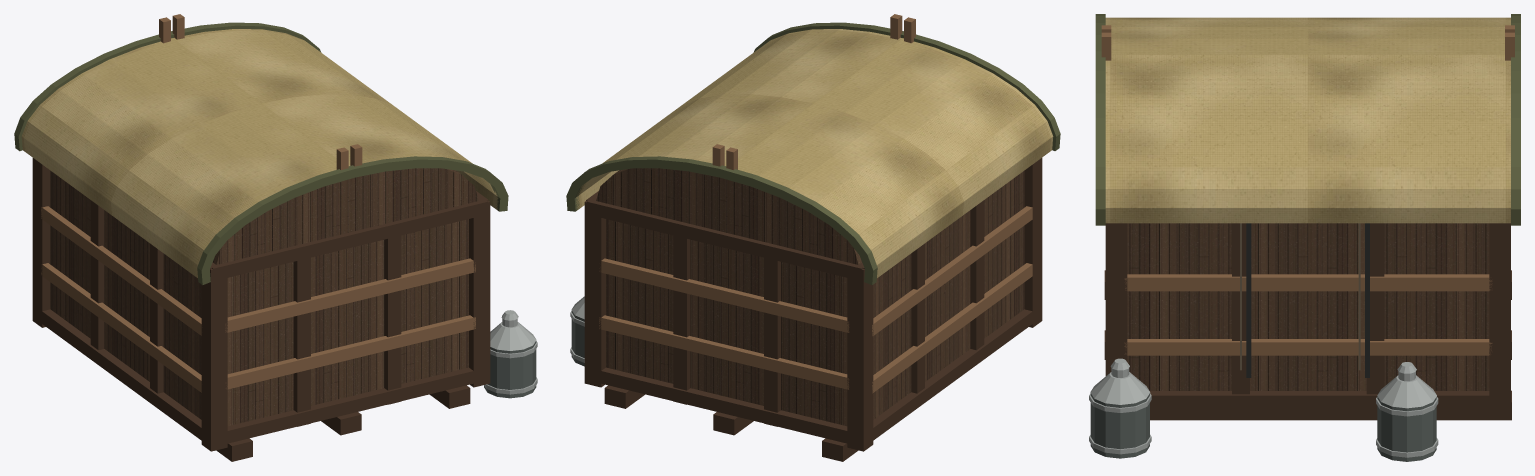
Rendered from abandonedStores.glb.
3 views of the same model, side by side, from view 1: azimuth 30°, elevation 25°; view 2: azimuth 150°, elevation 25°; view 3: azimuth 270°, elevation 25° (orthographic). The views are drawn at different scales.
Visible parts, largest first — view 1: bache, caisse, traverse (×4), lisse (×3), tympan, poteau_angle (×3), montant (×4), bache_ourlet (×2), bidon_corps, patin (×3), bidon_epaule; view 2: bache, caisse, traverse (×4), lisse (×3), tympan, poteau_angle (×3), montant (×4), bache_ourlet (×2), patin (×3), bidon_corps; view 3: bache, caisse, traverse (×2), poteau_angle (×2), bidon_corps (×2), lisse, bache_ourlet (×2), montant (×2), patin, bidon_epaule (×2), ferrure (×2), corde_bache.
Part boxes in pixels (x1,y1,x2,y2): bache: (21, 29, 498, 277); caisse: (50, 170, 468, 425); traverse (×4): (41, 206, 475, 392); lisse (×3): (34, 197, 487, 446); tympan: (213, 168, 478, 264); poteau_angle (×3): (32, 158, 490, 451); montant (×4): (90, 200, 401, 426); bache_ourlet (×2): (14, 22, 508, 284); bidon_corps: (484, 341, 536, 398); patin (×3): (216, 385, 470, 461); bidon_epaule: (490, 322, 536, 350); bache: (576, 29, 1053, 277); caisse: (606, 171, 1024, 426); traverse (×4): (599, 206, 1032, 393); lisse (×3): (587, 197, 1034, 446); tympan: (596, 168, 861, 264); poteau_angle (×3): (584, 158, 1042, 451); montant (×4): (673, 200, 984, 426); bache_ourlet (×2): (566, 22, 1060, 284); patin (×3): (604, 385, 858, 461); bidon_corps: (571, 310, 584, 366); bache: (1105, 17, 1510, 223); caisse: (1127, 223, 1489, 390); traverse (×2): (1124, 274, 1492, 355); poteau_angle (×2): (1105, 223, 1510, 414); bidon_corps (×2): (1090, 393, 1436, 461); lisse: (1150, 391, 1507, 409); bache_ourlet (×2): (1095, 14, 1520, 225); montant (×2): (1232, 223, 1384, 410); patin: (1150, 390, 1511, 420); bidon_epaule (×2): (1090, 372, 1436, 408); ferrure (×2): (1246, 223, 1369, 377); corde_bache: (1358, 223, 1360, 370).
Bounding box in the file's own units: 2.32 × 1.8 × 2.18.
9 materials, 2 textured.
